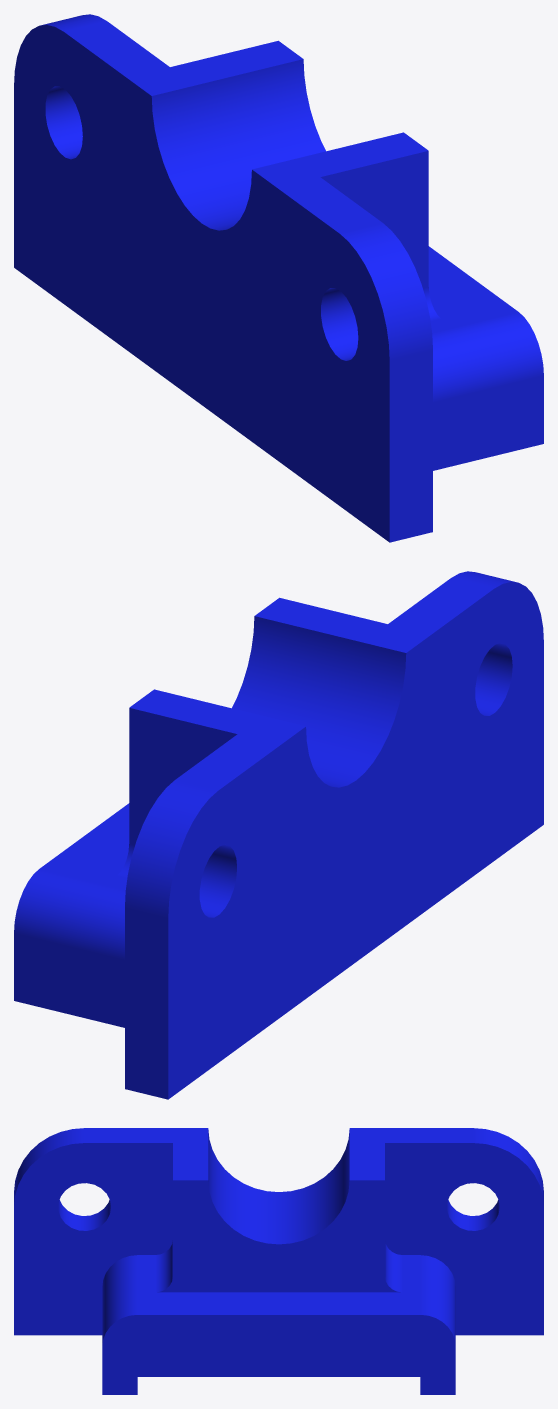
File: asset.glb
3 renders of one model, top to bottom at view 1: azimuth 30°, elevation 25°; view 2: azimuth 150°, elevation 25°; view 3: azimuth 270°, elevation 25°, orthographic. The views are drawn at different scales.
Visible parts, largest first — view 1: Solid1; view 2: Solid1; view 3: Solid1.
Part boxes in pixels (x1,y1,x2,y2): Solid1: (14, 14, 543, 542); Solid1: (14, 571, 543, 1099); Solid1: (14, 1128, 543, 1394).
Bounding box in the file's own units: 0.05 × 0.06 × 0.15.
